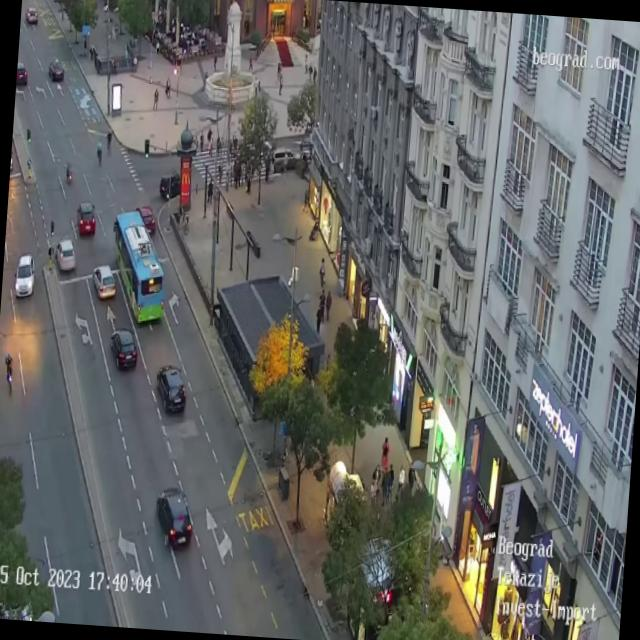bus: (106, 207, 171, 326)
car: (153, 486, 195, 550), (154, 363, 188, 413), (108, 328, 138, 371), (13, 254, 36, 298), (90, 264, 118, 300), (54, 238, 77, 272), (75, 200, 96, 236), (158, 169, 181, 200), (133, 204, 156, 234), (274, 144, 300, 168), (48, 57, 64, 81), (24, 5, 38, 24), (16, 59, 27, 82)
